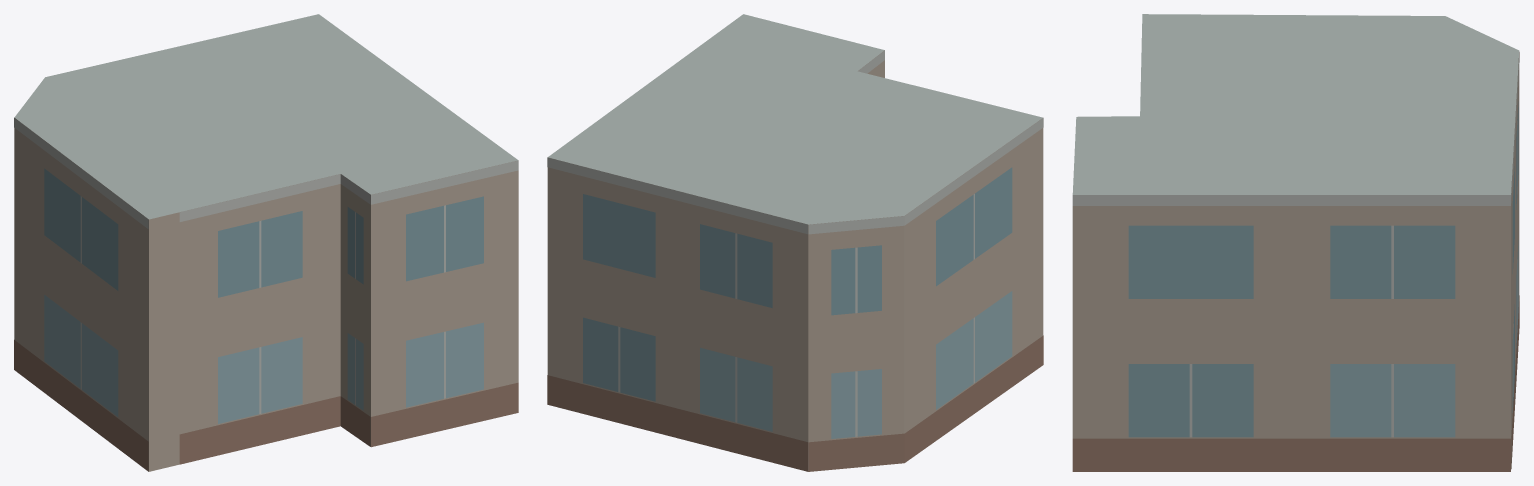
Rendered from survey-upis-32610493.glb.
3 views of the same model, side by side, from view 1: azimuth 30°, elevation 25°; view 2: azimuth 150°, elevation 25°; view 3: azimuth 270°, elevation 25° (orthographic). The views are drawn at different scales.
Visible parts, largest first — view 1: survey-upis-32610493.tmp; view 2: survey-upis-32610493.tmp; view 3: survey-upis-32610493.tmp.
Boxes of the visible parts, left/top/right/bottom form: survey-upis-32610493.tmp: left=14, top=14, right=518, bottom=471; survey-upis-32610493.tmp: left=547, top=14, right=1043, bottom=471; survey-upis-32610493.tmp: left=1072, top=14, right=1519, bottom=471.
Size of the model in its own units: 8.56 by 6.1 by 8.93.
